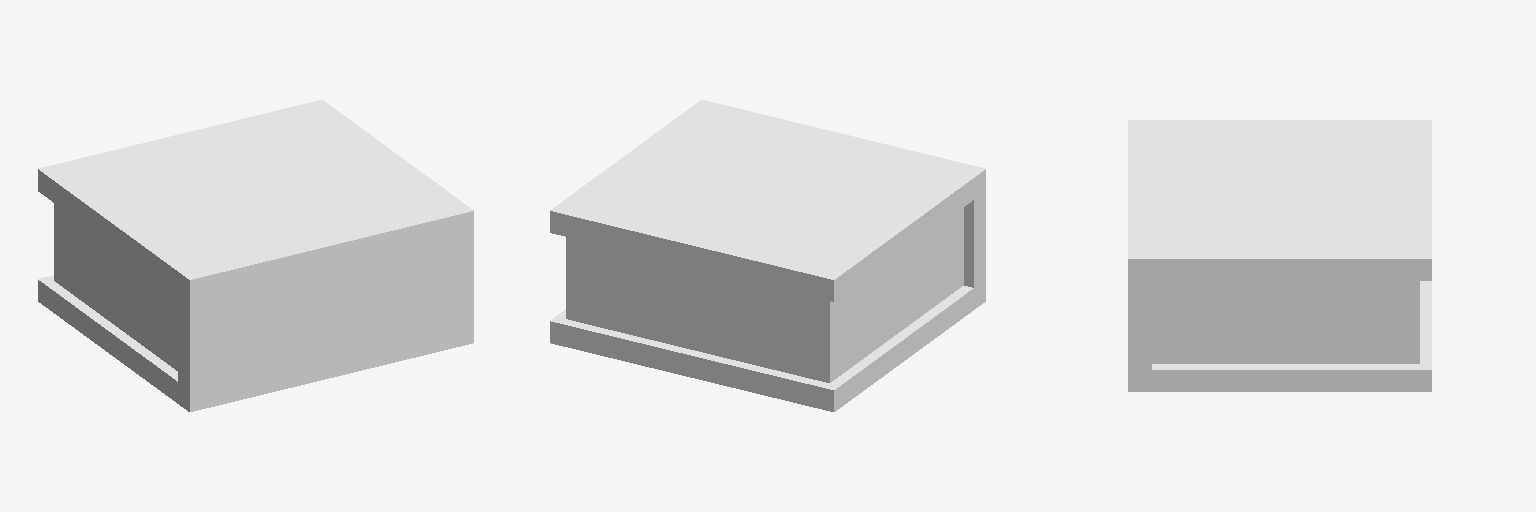
The model's file is pizzaBook.obj.
3 views of the same model, side by side, from view 1: azimuth 30°, elevation 25°; view 2: azimuth 150°, elevation 25°; view 3: azimuth 270°, elevation 25° (orthographic).
Size of the model in its own units: 27 by 12 by 25.